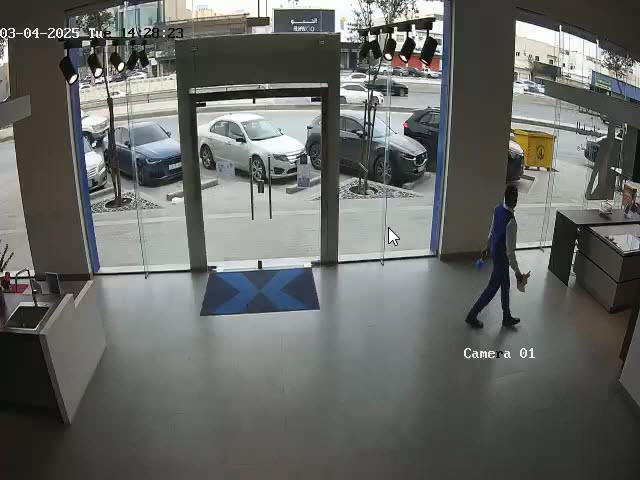employee: (465, 184, 525, 329)
